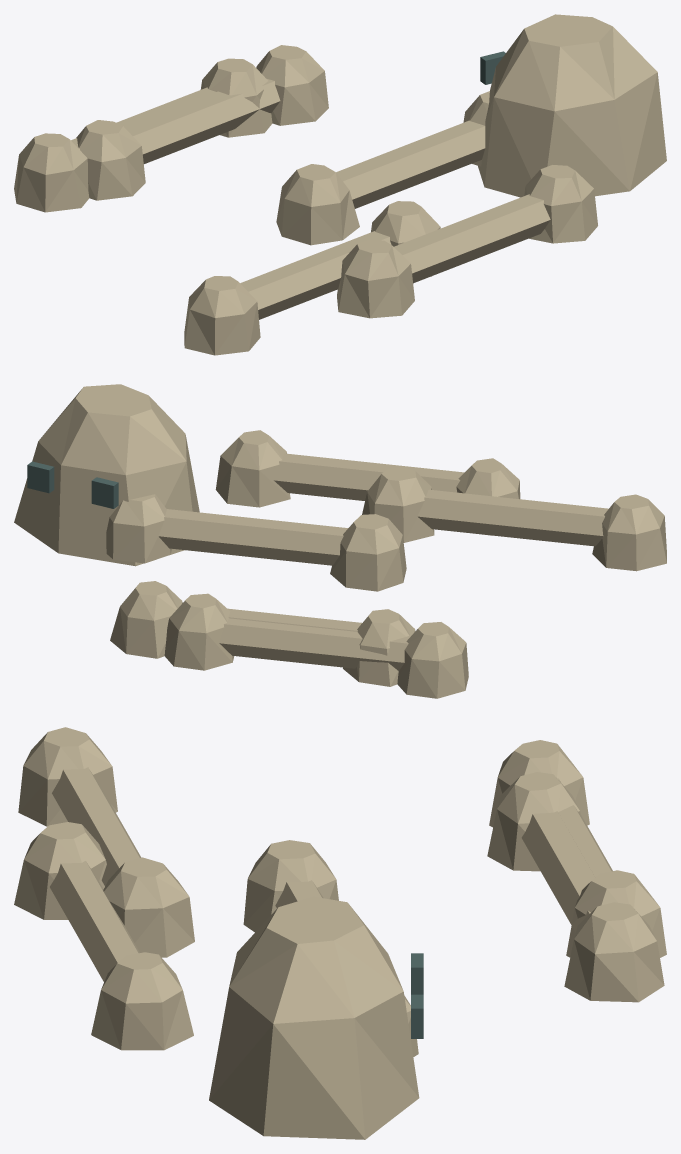
File: Decor_Bones.fbx
3 views of the same model, one above another, from view 1: azimuth 30°, elevation 25°; view 2: azimuth 150°, elevation 25°; view 3: azimuth 270°, elevation 25° (orthographic). The views are drawn at different scales.
Visible parts, largest first — view 1: Decor_Bones; view 2: Decor_Bones; view 3: Decor_Bones.
Part boxes in pixels (box(x1,y1,x2,y2)): Decor_Bones: box(14, 14, 666, 355); Decor_Bones: box(14, 384, 666, 698); Decor_Bones: box(14, 727, 666, 1139).
Size of the model in its own units: 1.59 by 0.36 by 1.27.
